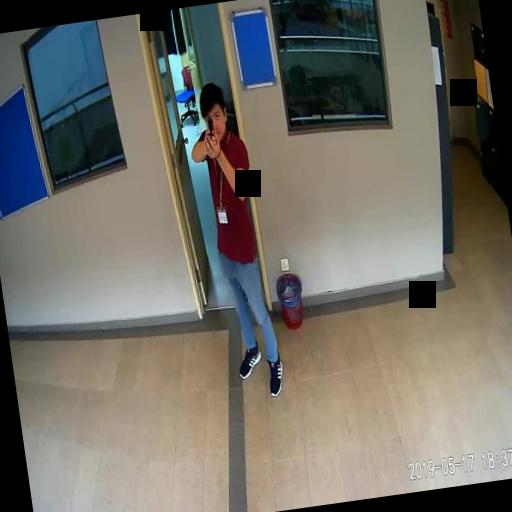Handgun: (202, 114, 217, 144)
